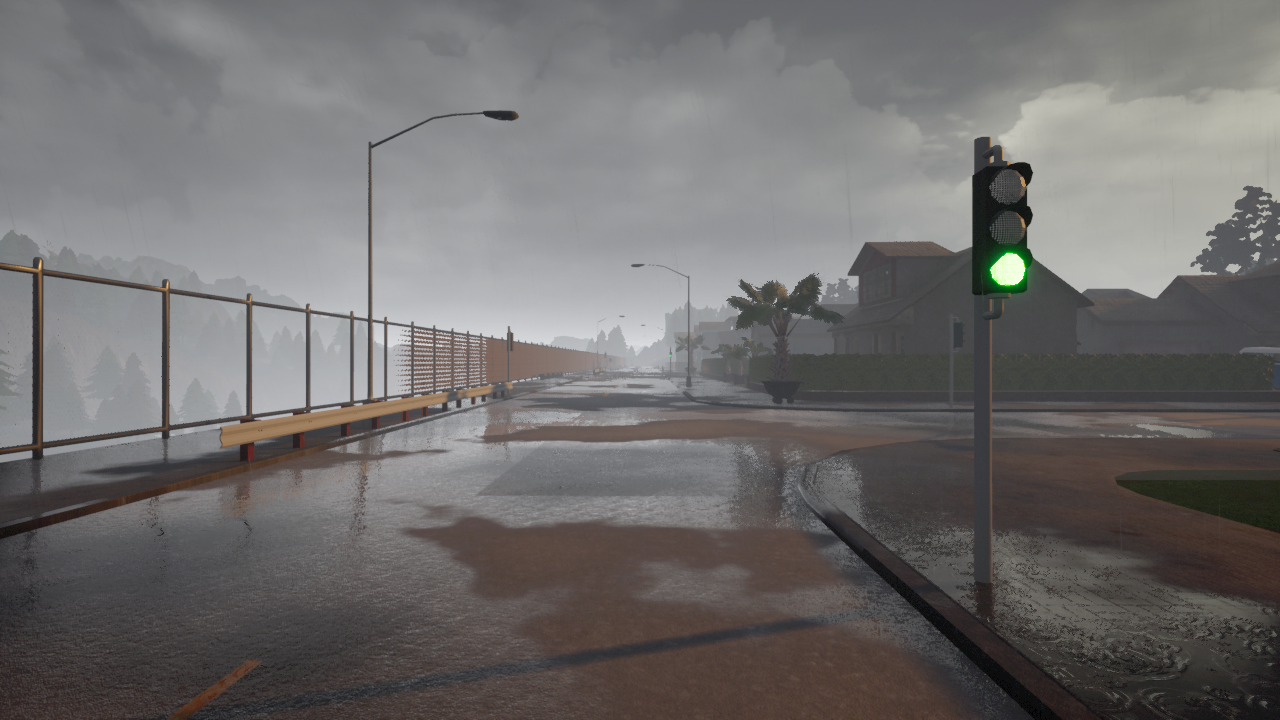green: (969, 152, 1035, 303)
